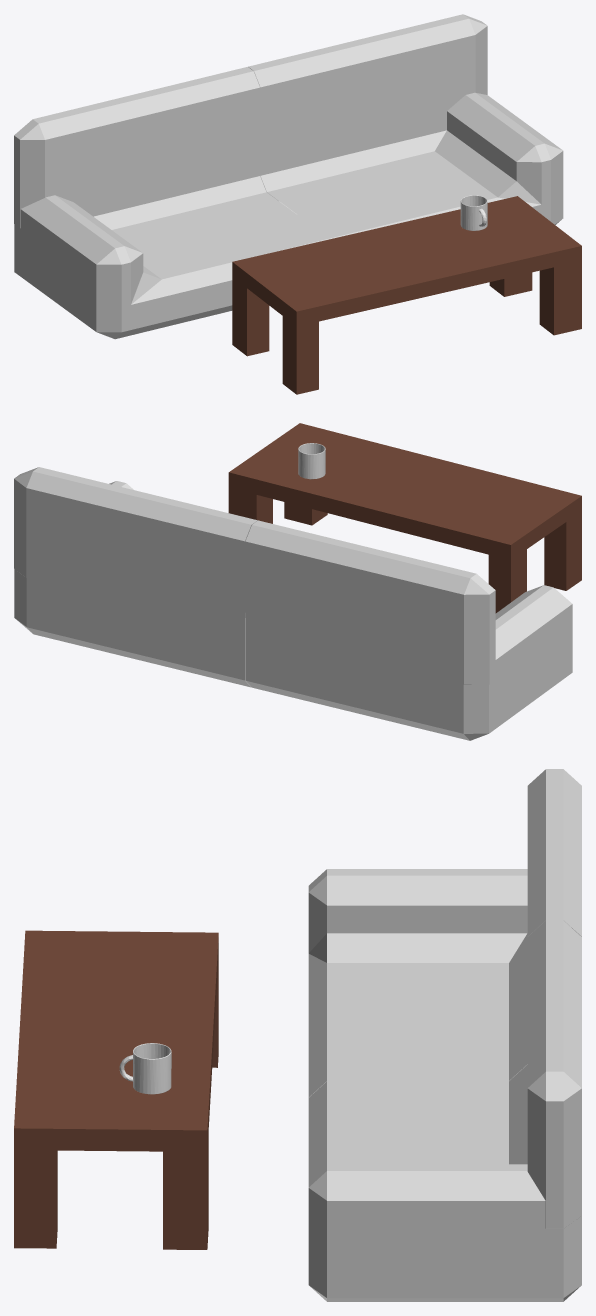
File: office.fbx
3 renders of one model, top to bottom at view 1: azimuth 30°, elevation 25°; view 2: azimuth 150°, elevation 25°; view 3: azimuth 270°, elevation 25°, orthographic. The views are drawn at different scales.
Visible parts, largest first — view 1: Cube.621, Cube.622, Mug.002; view 2: Cube.621, Cube.622, Mug.002; view 3: Cube.621, Cube.622, Mug.002.
Boxes of the visible parts, x1=… form: Cube.621: x1=14, y1=14, x2=563, y2=339; Cube.622: x1=232, y1=196, x2=581, y2=394; Mug.002: x1=460, y1=195, x2=487, y2=230; Cube.621: x1=14, y1=467, x2=572, y2=740; Cube.622: x1=228, y1=423, x2=581, y2=613; Mug.002: x1=298, y1=443, x2=325, y2=479; Cube.621: x1=308, y1=769, x2=581, y2=1301; Cube.622: x1=14, y1=930, x2=218, y2=1249; Mug.002: x1=119, y1=1043, x2=171, y2=1094.
Size of the model in its own units: 451 by 147 by 329.
